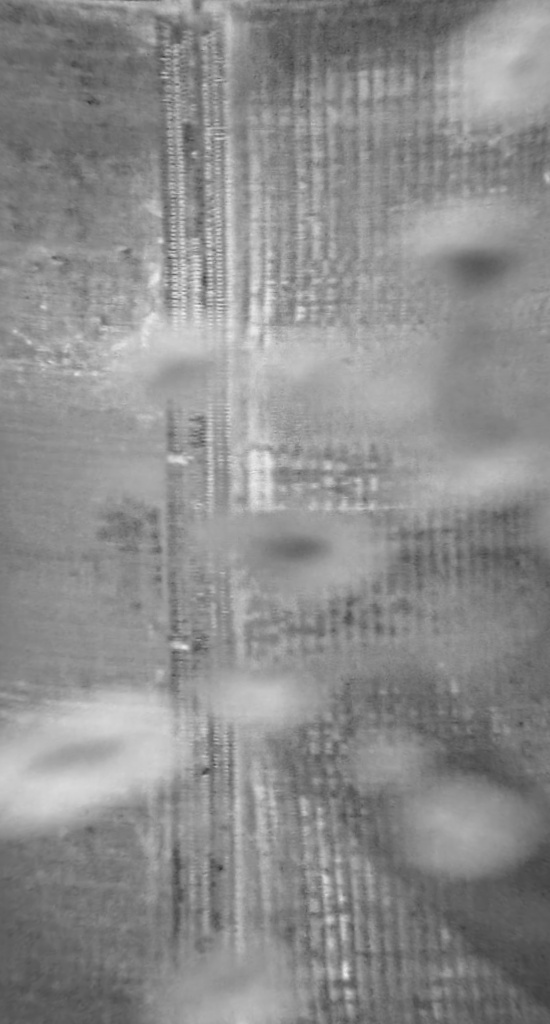splice: (149, 1, 246, 1023)
